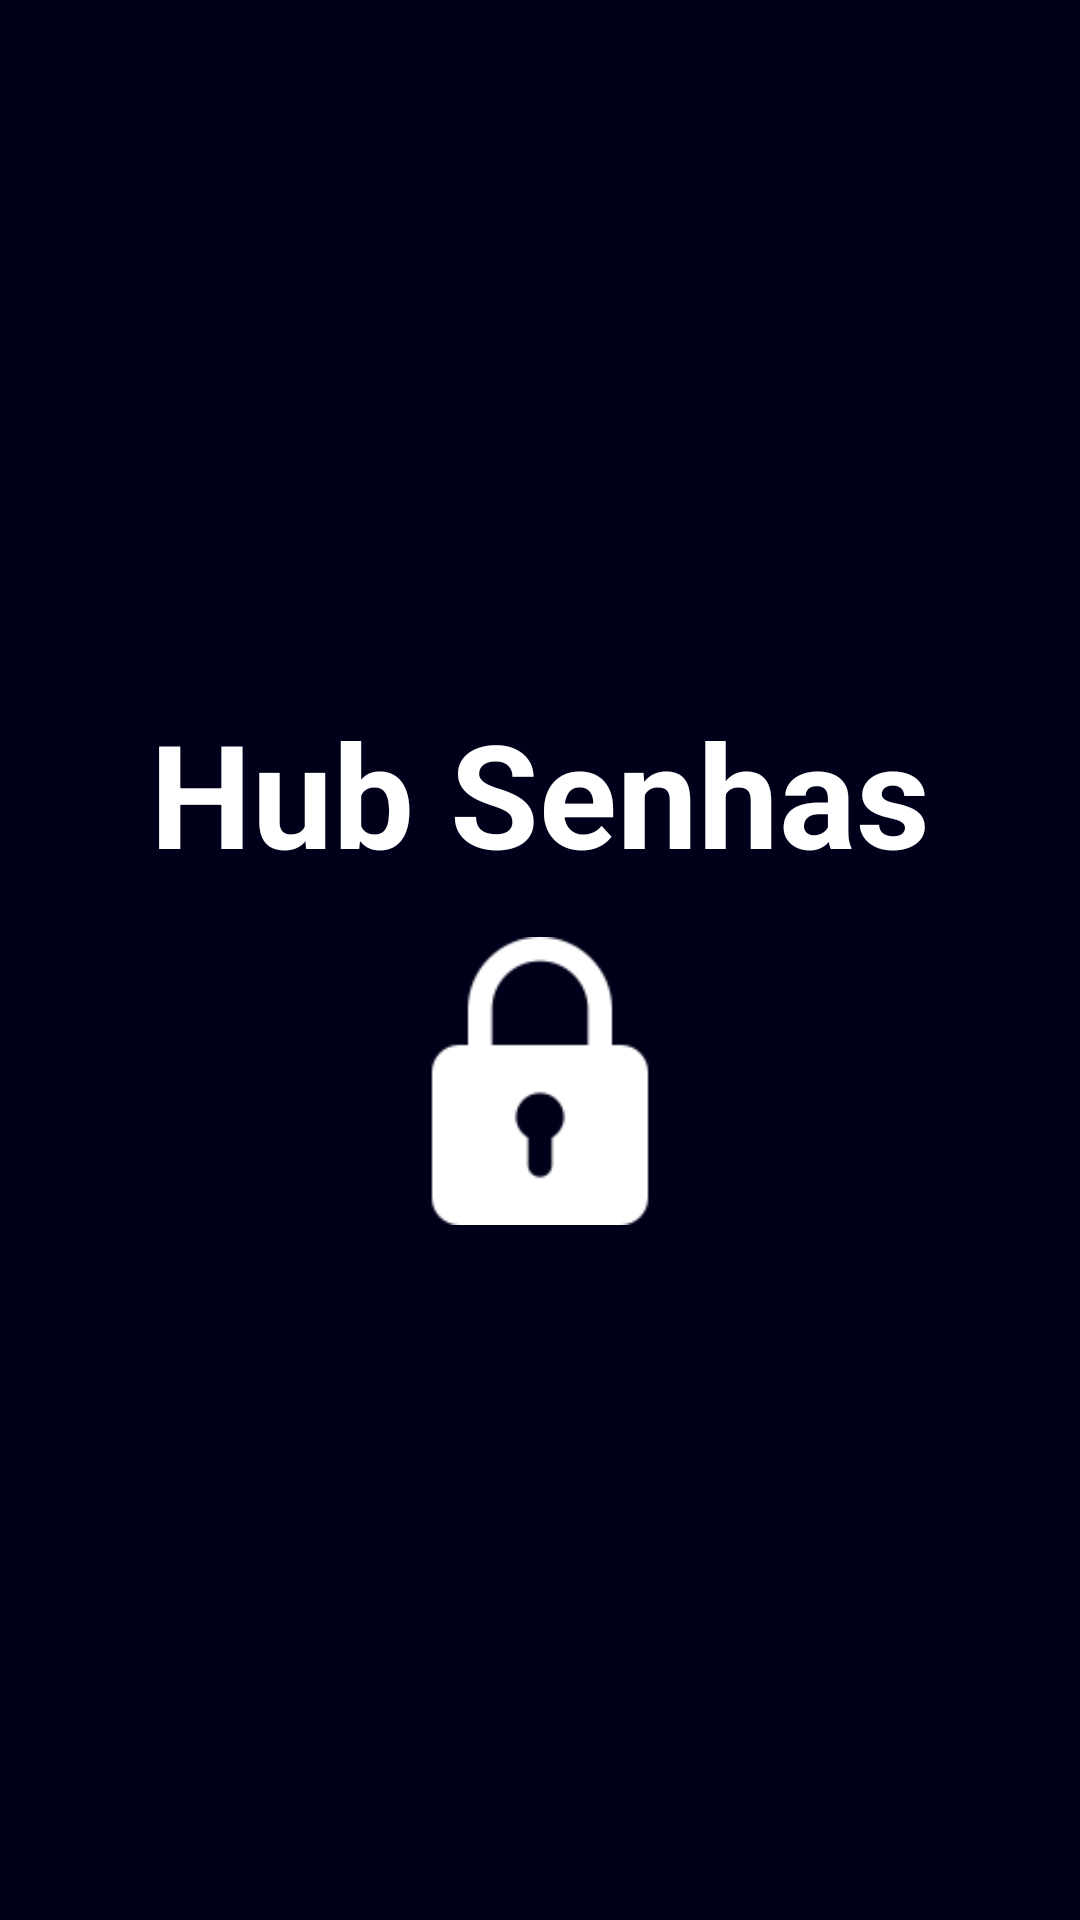

Icons on this 1080 × 1920 Android screen, each with the point to tap as [x,y]:
padlock: [540,1081]
